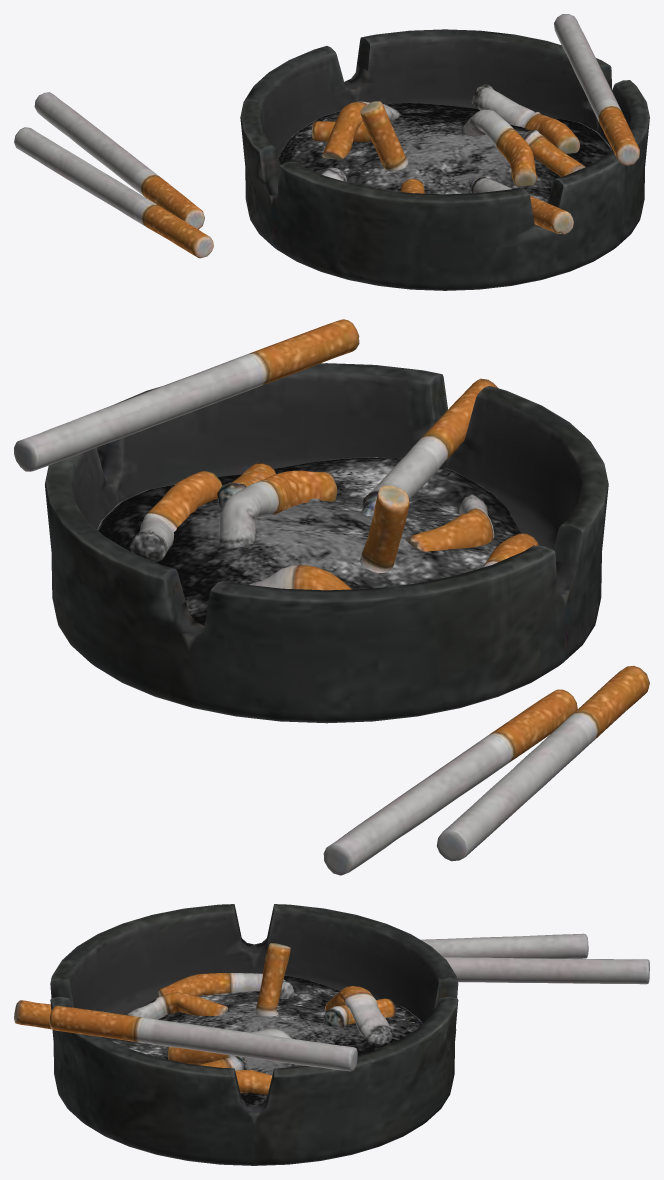
Rendered from cigarettes.glb.
The picture shows the model from 3 angles, top to bottom: view 1: azimuth 30°, elevation 25°; view 2: azimuth 150°, elevation 25°; view 3: azimuth 270°, elevation 25°; orthographic projection. The views are drawn at different scales.
Parts seen in each view (by area): view 1: Cigarettes; view 2: Cigarettes; view 3: Cigarettes.
Part boxes in pixels (x1,y1,x2,y2): Cigarettes: (14,14,649,290); Cigarettes: (14,319,649,875); Cigarettes: (14,904,649,1165).
Bounding box in the file's own units: 0.1363 × 0.0348 × 0.1675.
Materials: 1 (1 with a texture image).
